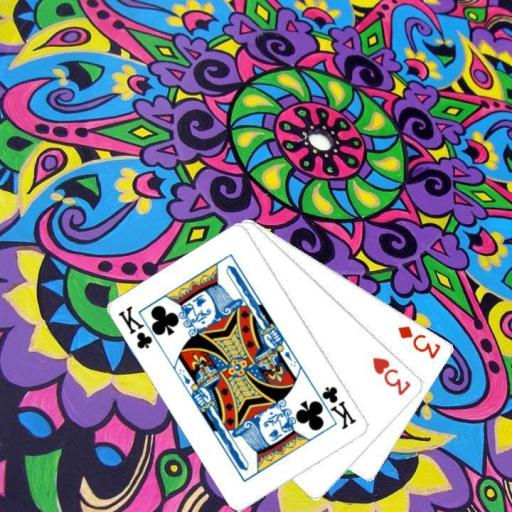card-corner: (115, 303, 164, 351), (311, 383, 358, 431), (370, 354, 413, 398), (395, 322, 443, 361)
